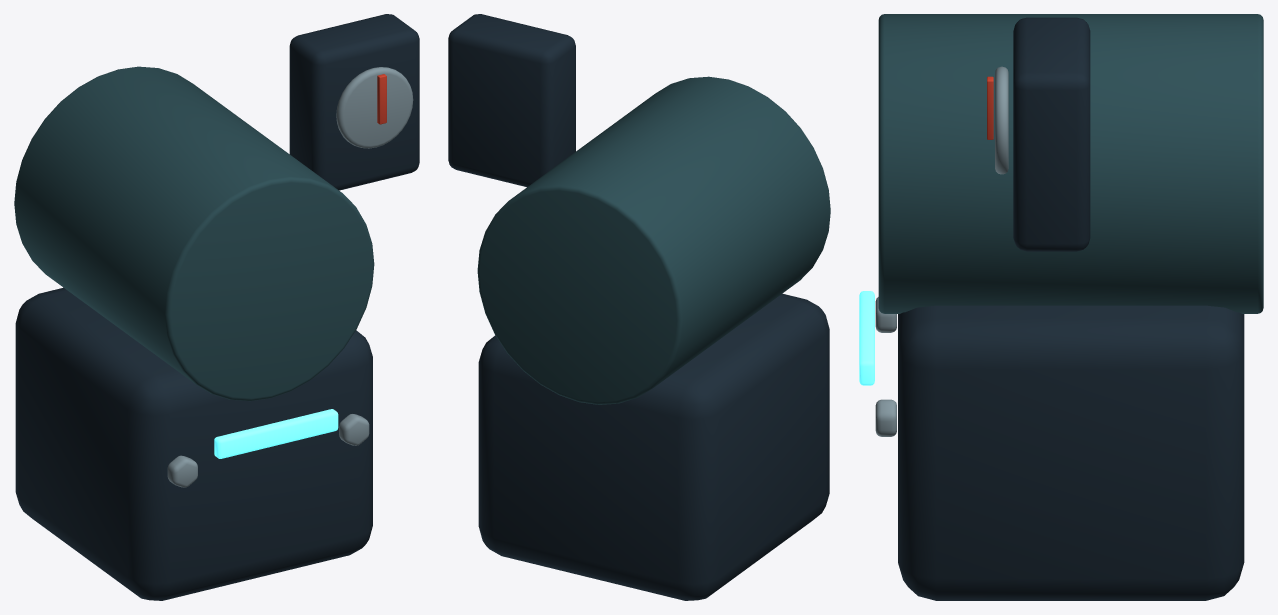
Rendered from pressure_valve.glb.
The picture shows the model from 3 angles, left to right: view 1: azimuth 30°, elevation 25°; view 2: azimuth 150°, elevation 25°; view 3: azimuth 270°, elevation 25°; orthographic projection. The views are drawn at different scales.
Parts seen in each view (by area): view 1: Valve pedestal, Valve main barrel, Hex fastener, Status strip; view 2: Valve pedestal, Valve main barrel; view 3: Valve pedestal, Valve main barrel, Hex fastener, Status strip.
Part boxes in pixels (<box>): Valve pedestal: <box>15,14,419,600</box>; Valve main barrel: <box>14,66,374,401</box>; Hex fastener: <box>167,67,413,487</box>; Status strip: <box>214,409,338,458</box>; Valve pedestal: <box>448,14,829,600</box>; Valve main barrel: <box>477,76,830,404</box>; Valve pedestal: <box>898,17,1244,600</box>; Valve main barrel: <box>878,14,1263,313</box>; Hex fastener: <box>875,66,1008,436</box>; Status strip: <box>859,291,874,385</box>.
Bounding box in the file's own units: 1.22 × 1.68 × 1.05.
